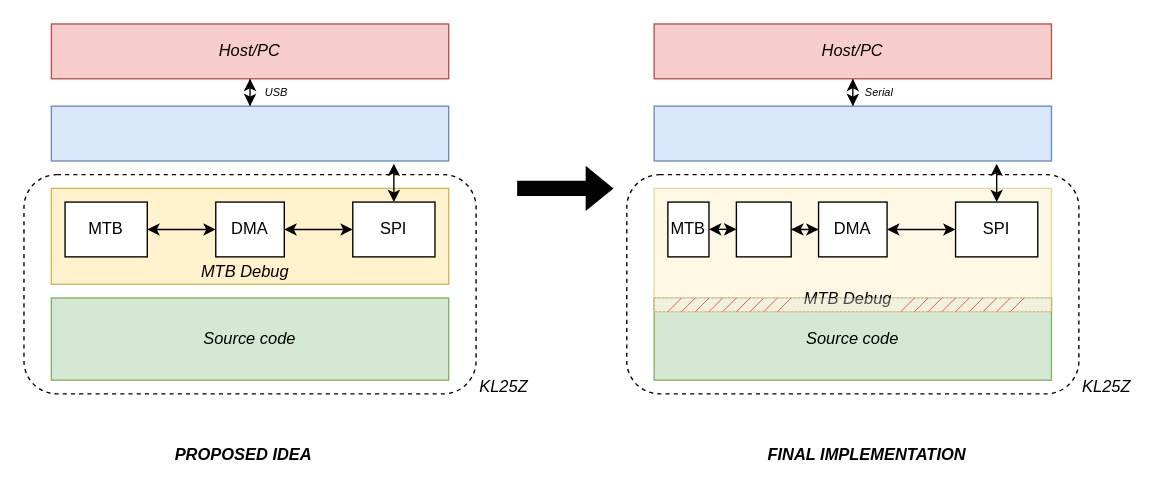
Some shapes in this 1171 by 500 pixel diagram are drawn without their labels. Here are the shapes that lost their labels. From the top down, the box of each, then its label:
(50, 105, 449, 161): ch341 interface
(653, 105, 1051, 161): Arduino Nano interface
(735, 201, 791, 257): Log buffer
